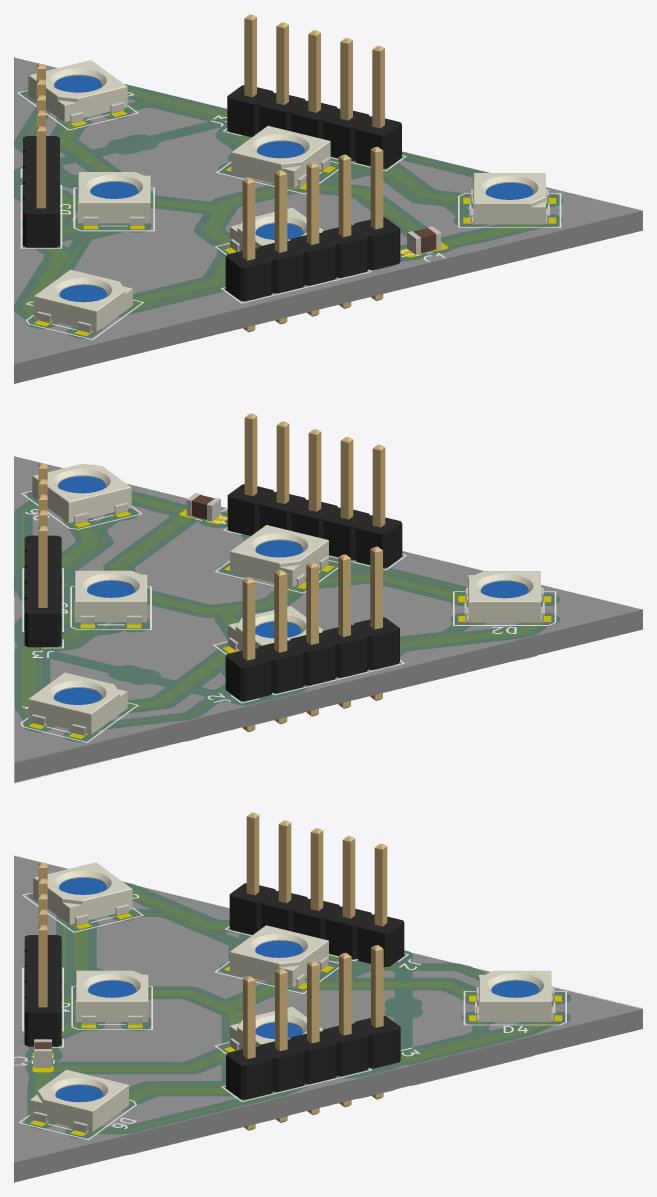
Rendered from hello-world.glb.
3 views of the same model, one above another, from view 1: azimuth 30°, elevation 25°; view 2: azimuth 150°, elevation 25°; view 3: azimuth 270°, elevation 25° (orthographic).
Visible parts, largest first — view 1: =>[0:1:1:8], =>[0:1:1:7], J1, J3, =>[0:1:1:5], J2, D2, D5, D4, D6, D3, =>[0:1:1:6] (+2 smaller); view 2: =>[0:1:1:8], =>[0:1:1:7], J2, J1, =>[0:1:1:5], J3, D4, D1, D6, D2, D5, =>[0:1:1:6] (+2 smaller); view 3: =>[0:1:1:8], =>[0:1:1:7], J3, J2, =>[0:1:1:5], J1, D6, D2, D3, D4, D1, =>[0:1:1:6] (+1 smaller).
Part boxes in pixels (x1=…): =>[0:1:1:8]: x1=14, y1=57, x2=642, y2=383; =>[0:1:1:7]: x1=14, y1=57, x2=562, y2=384; J1: x1=225, y1=146, x2=400, y2=332; J3: x1=227, y1=14, x2=401, y2=168; =>[0:1:1:5]: x1=22, y1=89, x2=556, y2=336; J2: x1=23, y1=64, x2=59, y2=247; D2: x1=33, y1=269, x2=132, y2=332; D5: x1=231, y1=126, x2=330, y2=187; D4: x1=28, y1=60, x2=127, y2=123; D6: x1=470, y1=173, x2=548, y2=224; D3: x1=78, y1=172, x2=150, y2=225; =>[0:1:1:6]: x1=17, y1=90, x2=561, y2=339; =>[0:1:1:8]: x1=14, y1=456, x2=642, y2=782; =>[0:1:1:7]: x1=14, y1=490, x2=559, y2=783; J2: x1=225, y1=546, x2=399, y2=731; J1: x1=227, y1=413, x2=402, y2=567; =>[0:1:1:5]: x1=22, y1=495, x2=551, y2=738; J3: x1=24, y1=463, x2=61, y2=647; D4: x1=28, y1=672, x2=127, y2=735; D1: x1=230, y1=525, x2=328, y2=587; D6: x1=32, y1=464, x2=131, y2=523; D2: x1=465, y1=571, x2=543, y2=622; D5: x1=74, y1=570, x2=147, y2=624; =>[0:1:1:6]: x1=20, y1=490, x2=556, y2=742; =>[0:1:1:8]: x1=14, y1=855, x2=642, y2=1182; =>[0:1:1:7]: x1=23, y1=881, x2=642, y2=1155; J3: x1=226, y1=945, x2=400, y2=1130; J2: x1=229, y1=812, x2=404, y2=967; =>[0:1:1:5]: x1=30, y1=890, x2=561, y2=1136; J1: x1=24, y1=863, x2=61, y2=1046; D6: x1=29, y1=1069, x2=128, y2=1132; D2: x1=33, y1=862, x2=132, y2=925; D3: x1=229, y1=925, x2=328, y2=987; D4: x1=476, y1=970, x2=554, y2=1021; D1: x1=75, y1=970, x2=148, y2=1024; =>[0:1:1:6]: x1=14, y1=892, x2=566, y2=1139.
Size of the model in its own units: 0.05 by 0.0115 by 0.0433.
